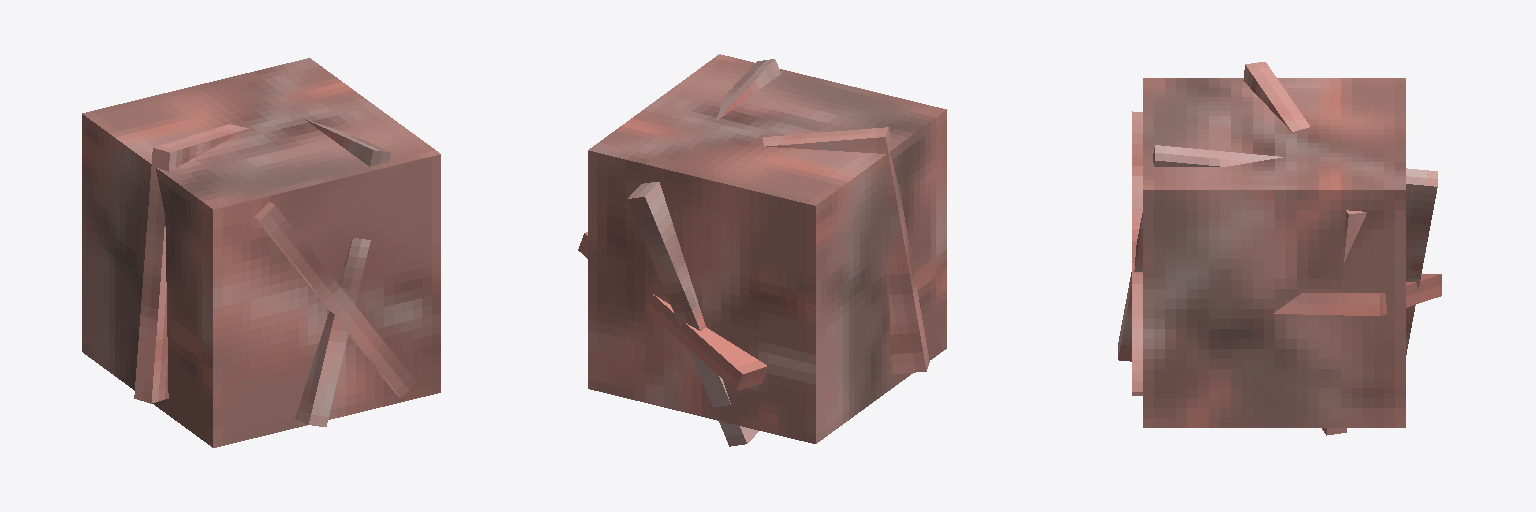
The picture shows the model from 3 angles: view 1: azimuth 30°, elevation 25°; view 2: azimuth 150°, elevation 25°; view 3: azimuth 270°, elevation 25°; orthographic projection.
Visible parts, largest first — view 1: cube; view 2: cube; view 3: cube.
Part boxes in pixels (bbox=[...]): cube: bbox=[82, 58, 440, 447]; cube: bbox=[578, 54, 946, 446]; cube: bbox=[1118, 62, 1441, 435].
Bounding box in the file's own units: 0.9231 × 0.8884 × 0.924.
1 materials, 1 textured.